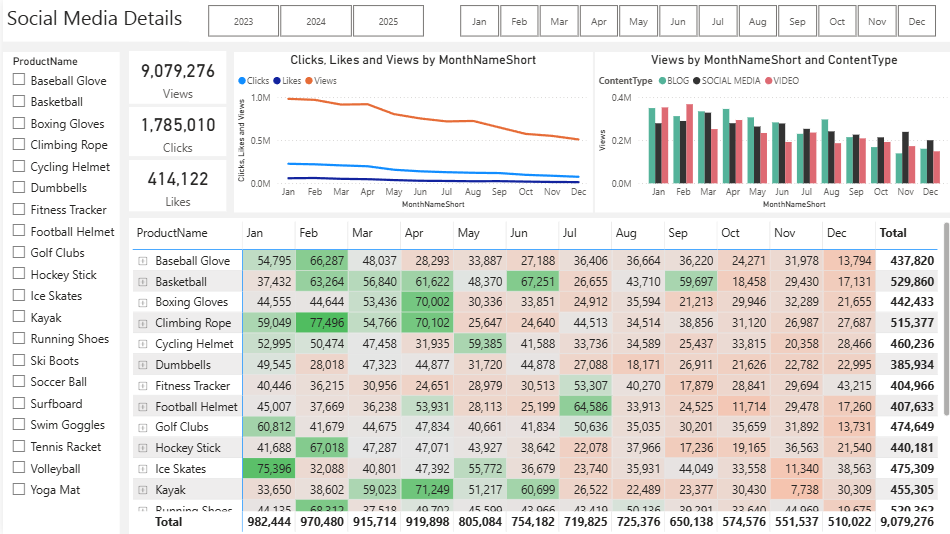

This screenshot's page, from the dashboard's own definition file:
{"tool":"powerbi","page":{"name":"Social Media Details","canvas":[1280,720],"ordinal":2},"visuals":[{"type":"textbox","box":[0,0,1280.2,56.2],"z":0},{"type":"slicer","fields":{"Values":["dim_products.ProductName"]},"box":[0,70.2,156.9,649.6],"z":1000},{"type":"card","fields":{"Values":["_Calculation.Views"]},"box":[170,68.6,131.4,71.4],"z":2000},{"type":"card","fields":{"Values":["_Calculation.Clicks"]},"box":[170,144.3,131.4,65.7],"z":3000},{"type":"card","fields":{"Values":["_Calculation.Likes"]},"box":[170,215.7,131.4,68.6],"z":4000},{"type":"slicer","fields":{"Values":["Calendar.Year"]},"box":[250,0,340,55.7],"z":5000},{"type":"slicer","fields":{"Values":["Calendar.MonthNameShort"]},"box":[590,0,690,55.7],"z":6000},{"type":"lineChart","fields":{"Y":["_Calculation.Clicks","_Calculation.Likes","_Calculation.Views"],"Category":["Calendar.MonthNameShort"]},"box":[311.4,70,482.9,215.7],"z":7000},{"type":"clusteredColumnChart","fields":{"Category":["Calendar.MonthNameShort"],"Y":["_Calculation.Views"],"Series":["fact_engagement_data.ContentType"]},"box":[797.1,70,482.9,215.7],"z":8000},{"type":"pivotTable","fields":{"Rows":["dim_products.ProductName","fact_engagement_data.ContentType"],"Columns":["Calendar.MonthNameShort"],"Values":["_Calculation.Views"]},"box":[170,292.9,1110,427.1],"z":9000}]}

Visuals, with their boxes in screenshot pixels (x1, y1, x2, y2), scaled from the page's 1280x720 canvas onto the 950x534 screenshot:
textbox: [left=0, top=0, right=949, bottom=42]
slicer - dim_products.ProductName: [left=0, top=52, right=116, bottom=533]
card - _Calculation.Views: [left=126, top=51, right=224, bottom=104]
card - _Calculation.Clicks: [left=126, top=107, right=224, bottom=156]
card - _Calculation.Likes: [left=126, top=160, right=224, bottom=211]
slicer - Calendar.Year: [left=186, top=0, right=438, bottom=41]
slicer - Calendar.MonthNameShort: [left=438, top=0, right=949, bottom=41]
lineChart - _Calculation.Clicks x _Calculation.Likes: [left=231, top=52, right=590, bottom=212]
clusteredColumnChart - Calendar.MonthNameShort x _Calculation.Views: [left=592, top=52, right=949, bottom=212]
pivotTable - dim_products.ProductName x fact_engagement_data.ContentType: [left=126, top=217, right=949, bottom=533]
